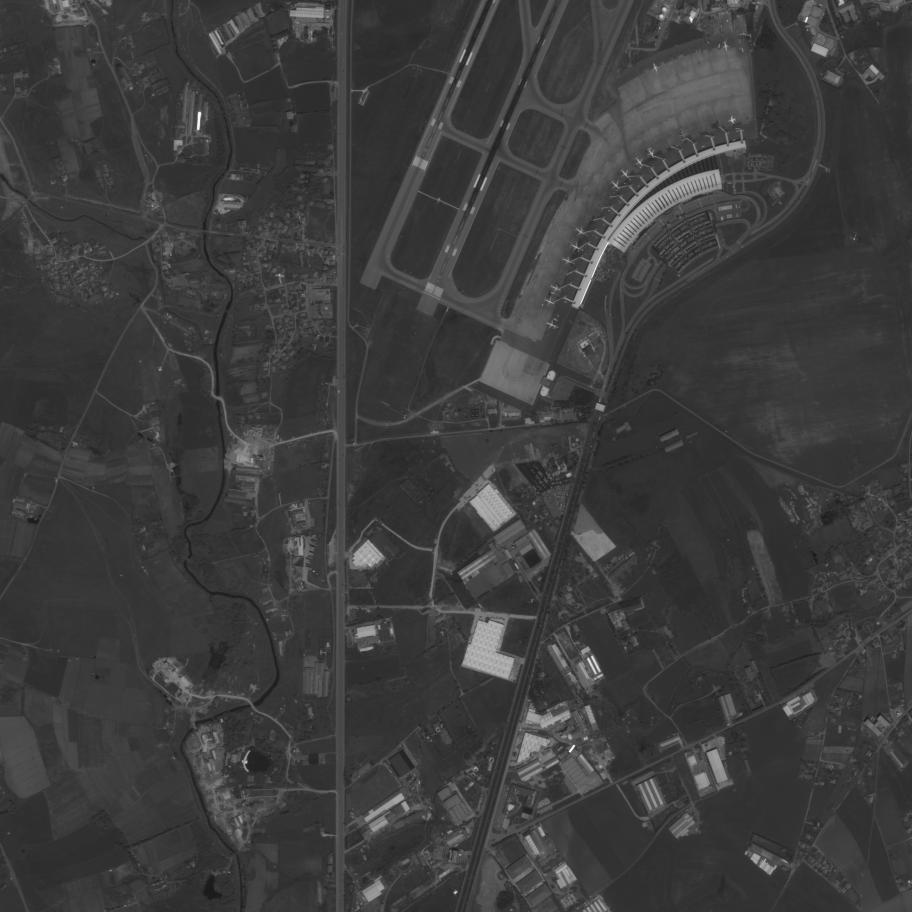plane: (543, 316, 562, 333), (567, 239, 584, 256), (541, 295, 558, 311), (572, 224, 589, 240), (617, 166, 633, 183), (643, 145, 659, 162), (607, 177, 623, 193), (547, 281, 564, 296), (676, 126, 691, 142), (560, 254, 576, 269), (632, 154, 647, 170), (720, 40, 733, 55), (649, 61, 662, 75), (727, 115, 737, 125)
storage-tank: (662, 6, 667, 12), (659, 14, 664, 19), (470, 409, 475, 413), (475, 409, 480, 413), (471, 413, 475, 418), (475, 413, 479, 418), (464, 415, 468, 420), (464, 409, 467, 413), (896, 712, 900, 715)
